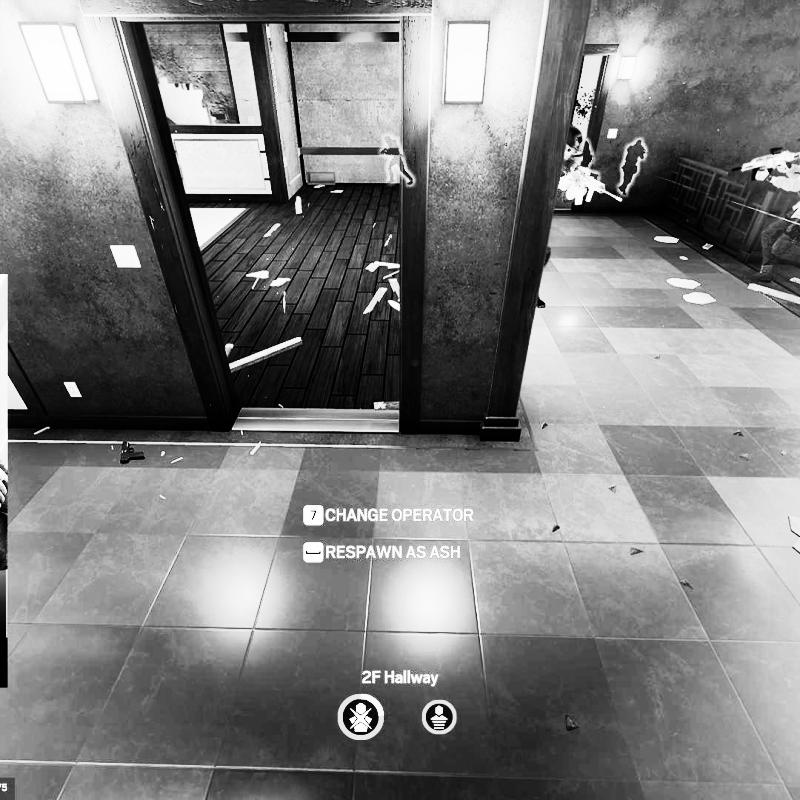Character: (538, 123, 620, 312), (732, 139, 800, 284)
Head: (560, 125, 584, 158)
